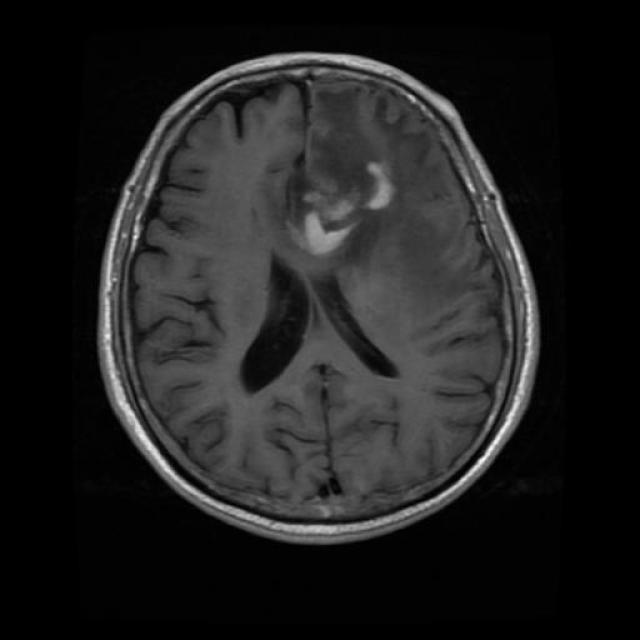glioma: (271, 146, 401, 262)
